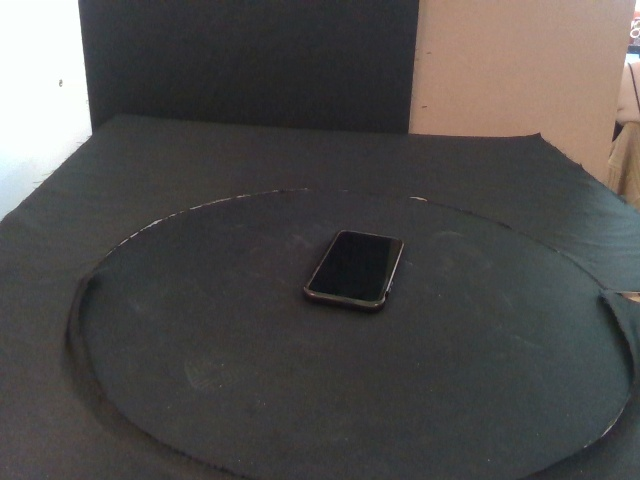phone: (303, 229, 406, 310)
